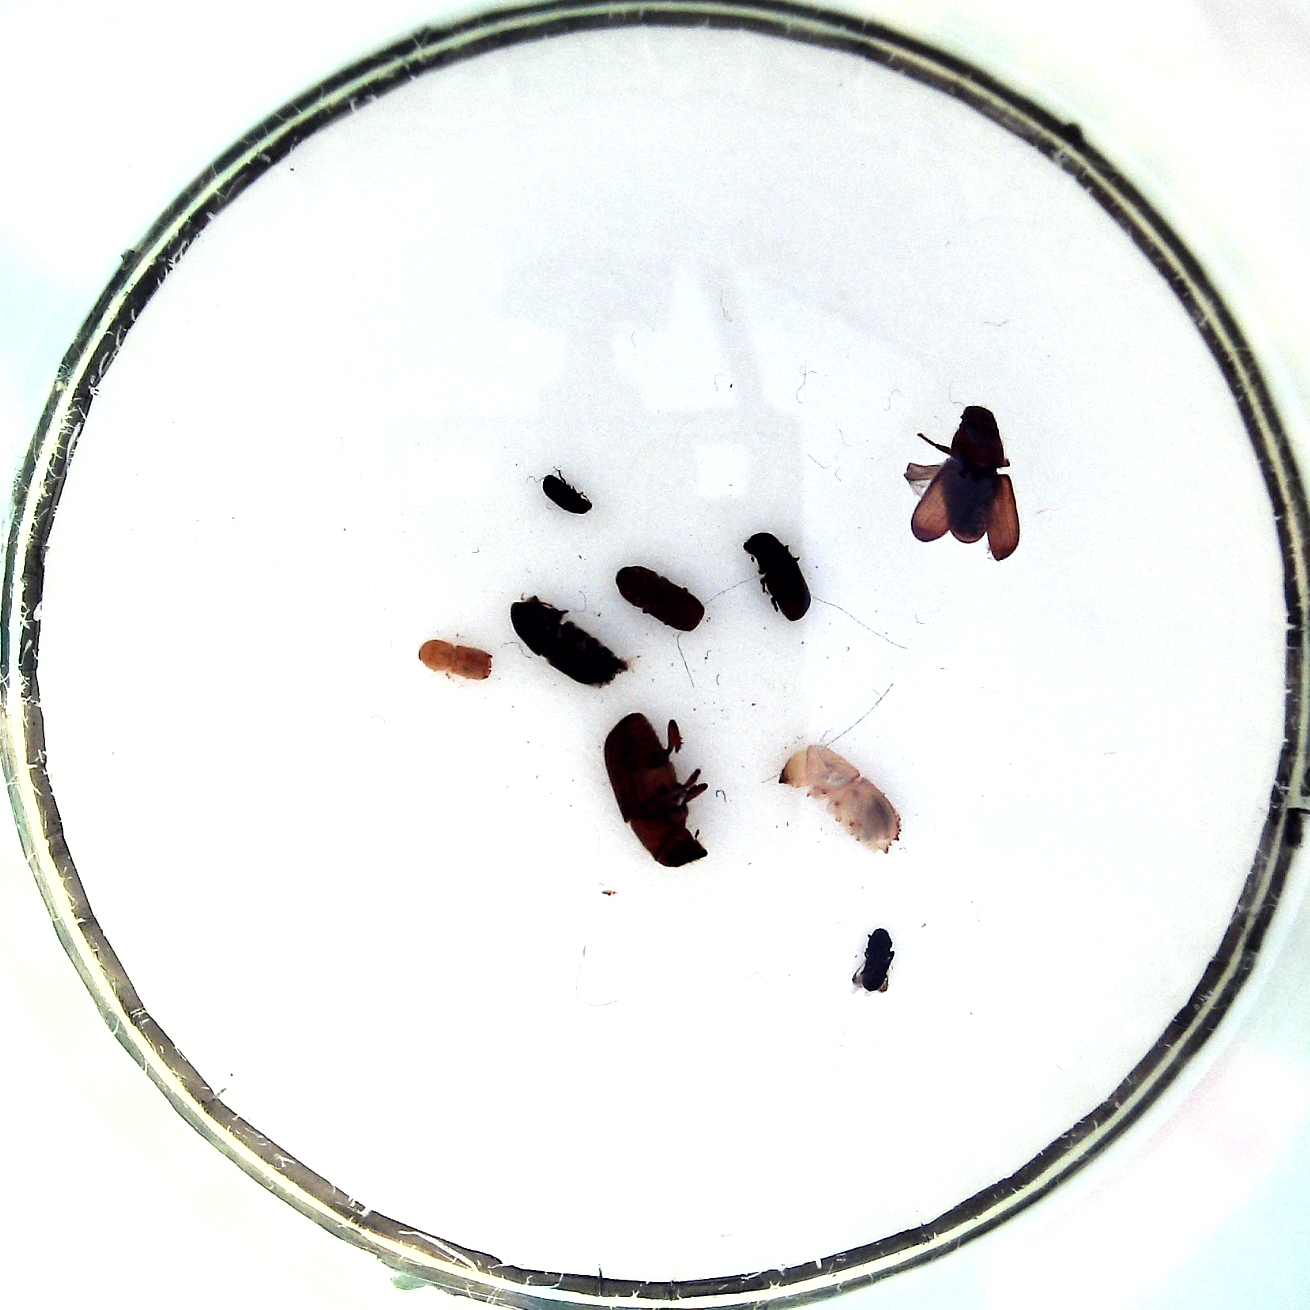Boerner: (768, 743, 909, 857)
Leconte: (900, 399, 1030, 566), (594, 708, 714, 870), (506, 593, 639, 690)
Linnaeus: (612, 557, 707, 633)
acuminatus: (411, 633, 499, 685)
armandi: (735, 522, 821, 626)
coleoptera: (843, 924, 899, 996), (537, 465, 599, 516)
